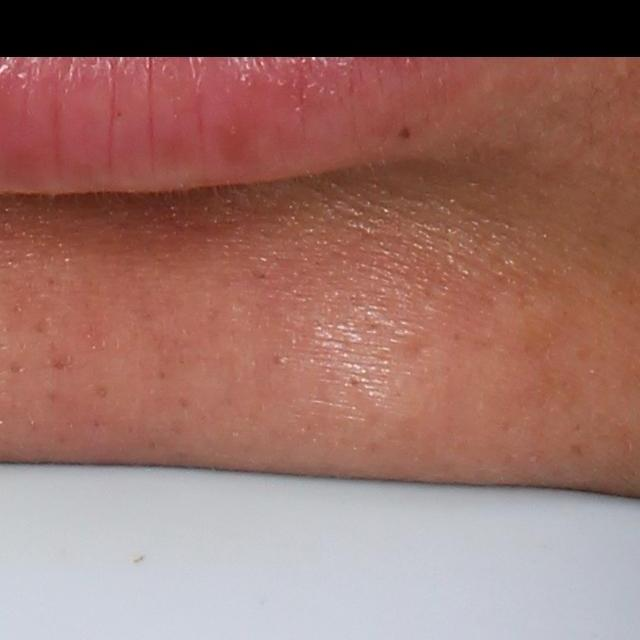nevus: (394, 121, 413, 142)
